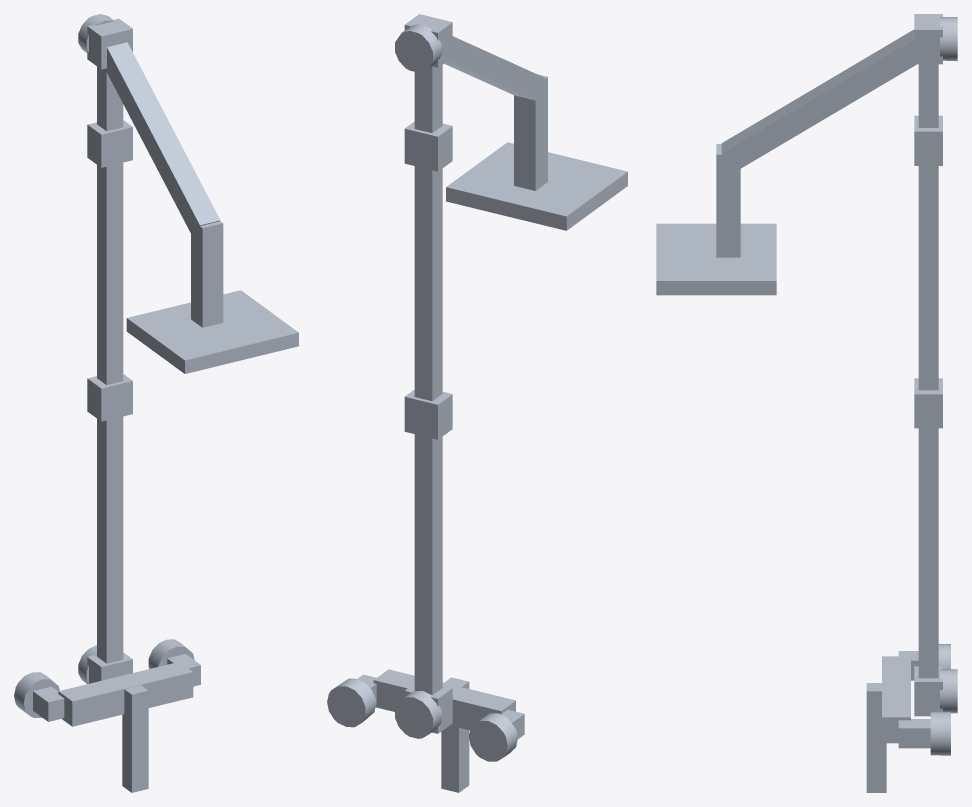
Rendered from 花洒-lite.glb.
The picture shows the model from 3 angles, left to right: view 1: azimuth 30°, elevation 25°; view 2: azimuth 150°, elevation 25°; view 3: azimuth 270°, elevation 25°; orthographic projection. The views are drawn at different scales.
Visible parts, largest first — view 1: shower; view 2: shower; view 3: shower.
Boxes of the visible parts, x1=… form: shower: x1=14, y1=14, x2=298, y2=792; shower: x1=327, y1=14, x2=627, y2=792; shower: x1=656, y1=14, x2=957, y2=792.
Size of the model in its own units: 0.459 by 1.91 by 0.677.
